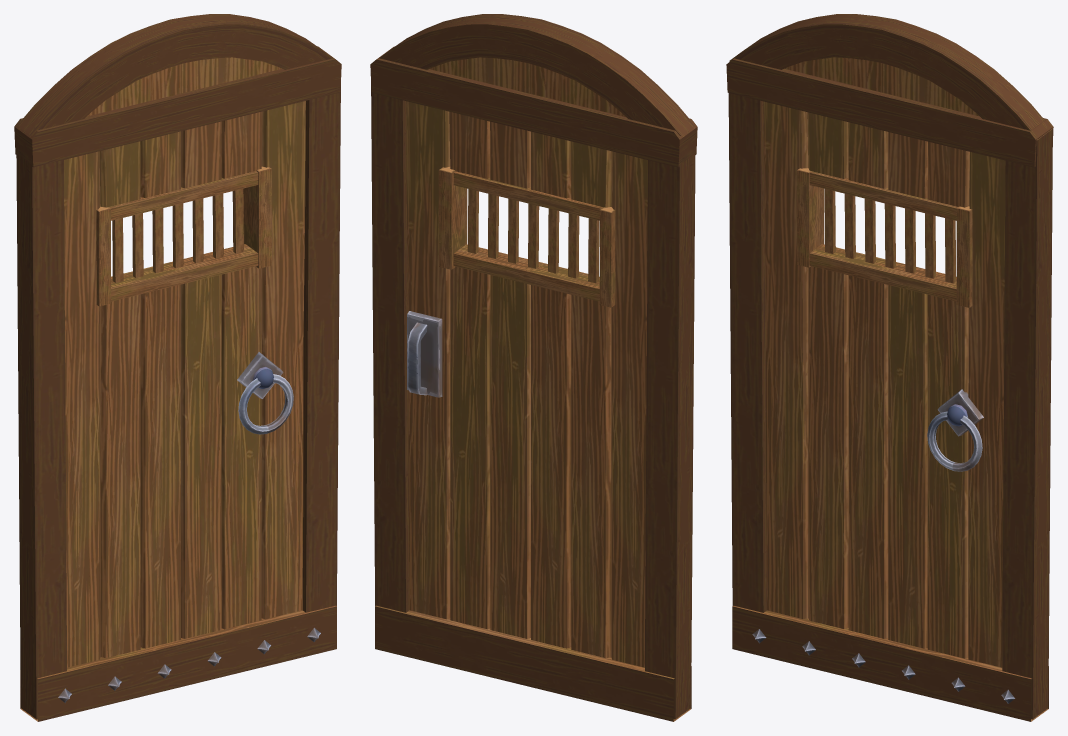
Rendered from Door_8_Round.gltf.
The picture shows the model from 3 angles, left to right: view 1: azimuth 30°, elevation 25°; view 2: azimuth 150°, elevation 25°; view 3: azimuth 330°, elevation 25°; orthographic projection.
Parts seen in each view (by area): view 1: Door_8_Round; view 2: Door_8_Round; view 3: Door_8_Round.
Part boxes in pixels (x1,y1,x2,y2): Door_8_Round: (14,14,341,721); Door_8_Round: (370,14,697,721); Door_8_Round: (726,14,1053,721).
Size of the model in its own units: 1.15 by 2.32 by 0.1995.
2 materials, 2 textured.
